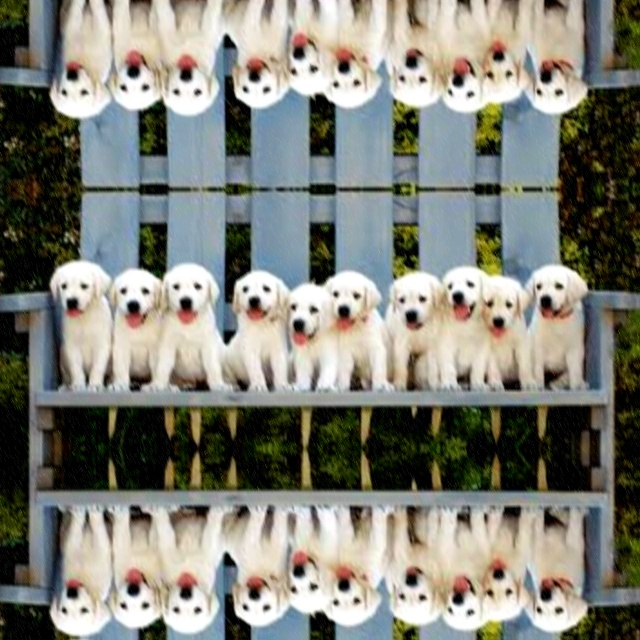dog: (150, 256, 226, 399), (150, 499, 226, 640), (522, 239, 588, 387), (227, 256, 293, 402), (227, 496, 293, 640), (522, 0, 589, 141), (150, 0, 226, 124), (522, 511, 589, 640), (227, 0, 293, 124), (57, 260, 111, 410), (57, 489, 111, 639), (57, 0, 111, 120), (392, 250, 437, 392), (392, 506, 437, 640), (392, 0, 437, 130)
